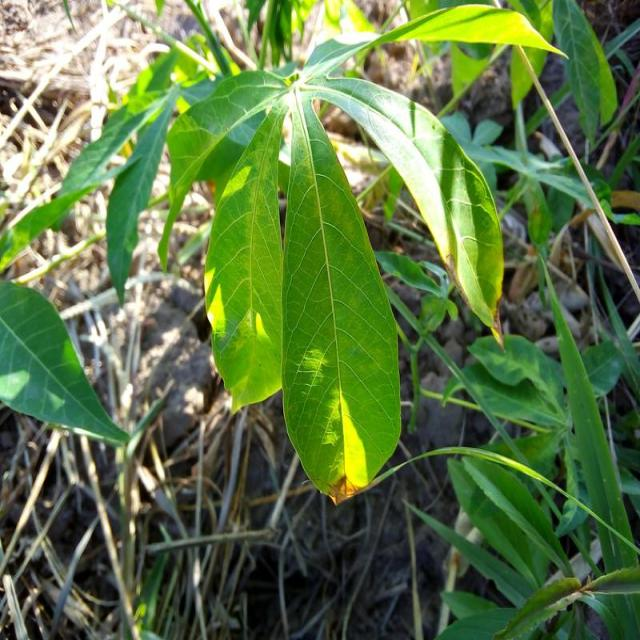cassava leaf: (280, 87, 402, 504), (202, 96, 286, 415), (0, 278, 130, 446)
